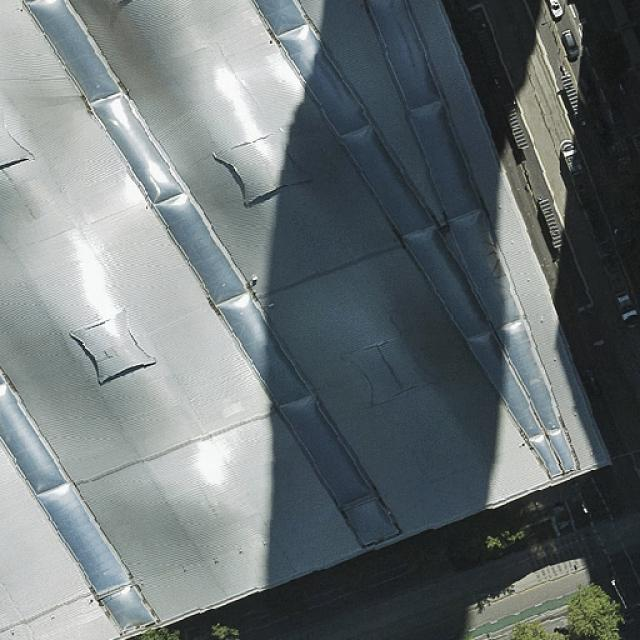Bike-Symbols: (554, 520, 572, 530), (550, 505, 566, 515)
